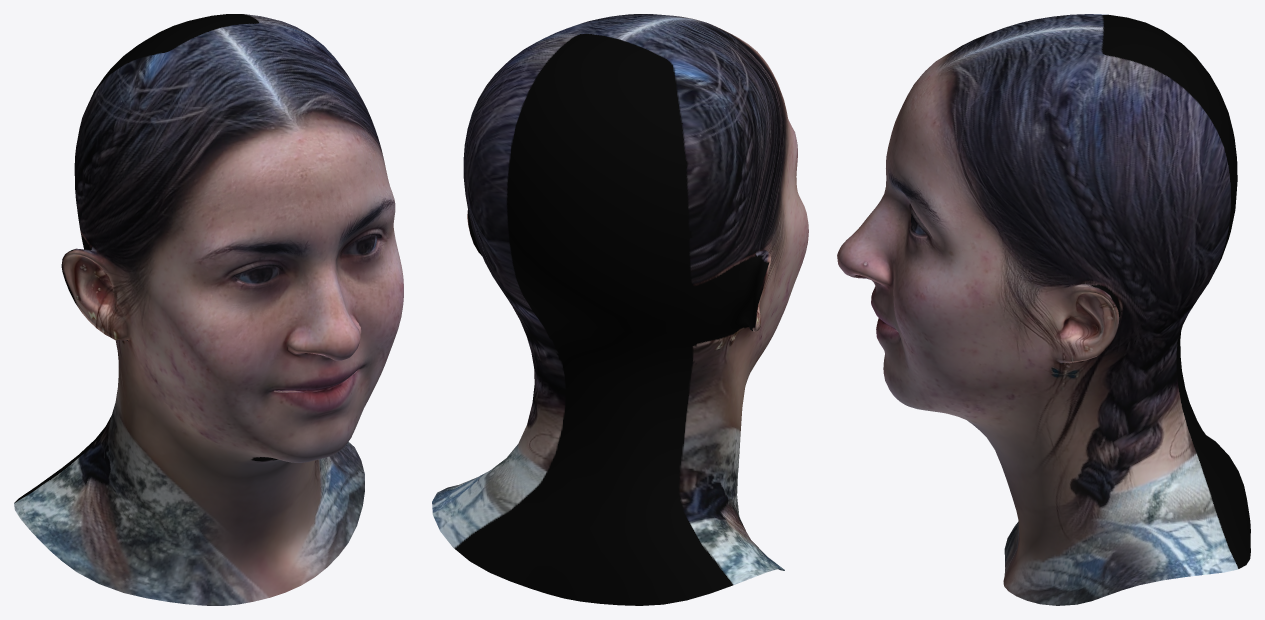
The model's file is ShailaHead.glb.
3 renders of one model, left to right at view 1: azimuth 30°, elevation 25°; view 2: azimuth 150°, elevation 25°; view 3: azimuth 270°, elevation 25°, orthographic.
Parts seen in each view (by area): view 1: HeadNewUV_FBHead_mesh.001; view 2: HeadNewUV_FBHead_mesh.001; view 3: HeadNewUV_FBHead_mesh.001.
Part boxes in pixels (box(x1,y1,x2,y2)): HeadNewUV_FBHead_mesh.001: box(14, 14, 403, 605); HeadNewUV_FBHead_mesh.001: box(432, 14, 808, 605); HeadNewUV_FBHead_mesh.001: box(837, 14, 1250, 605).
Bounding box in the file's own units: 1.6 × 2.51 × 1.73.
Materials: 1 (1 with a texture image).
